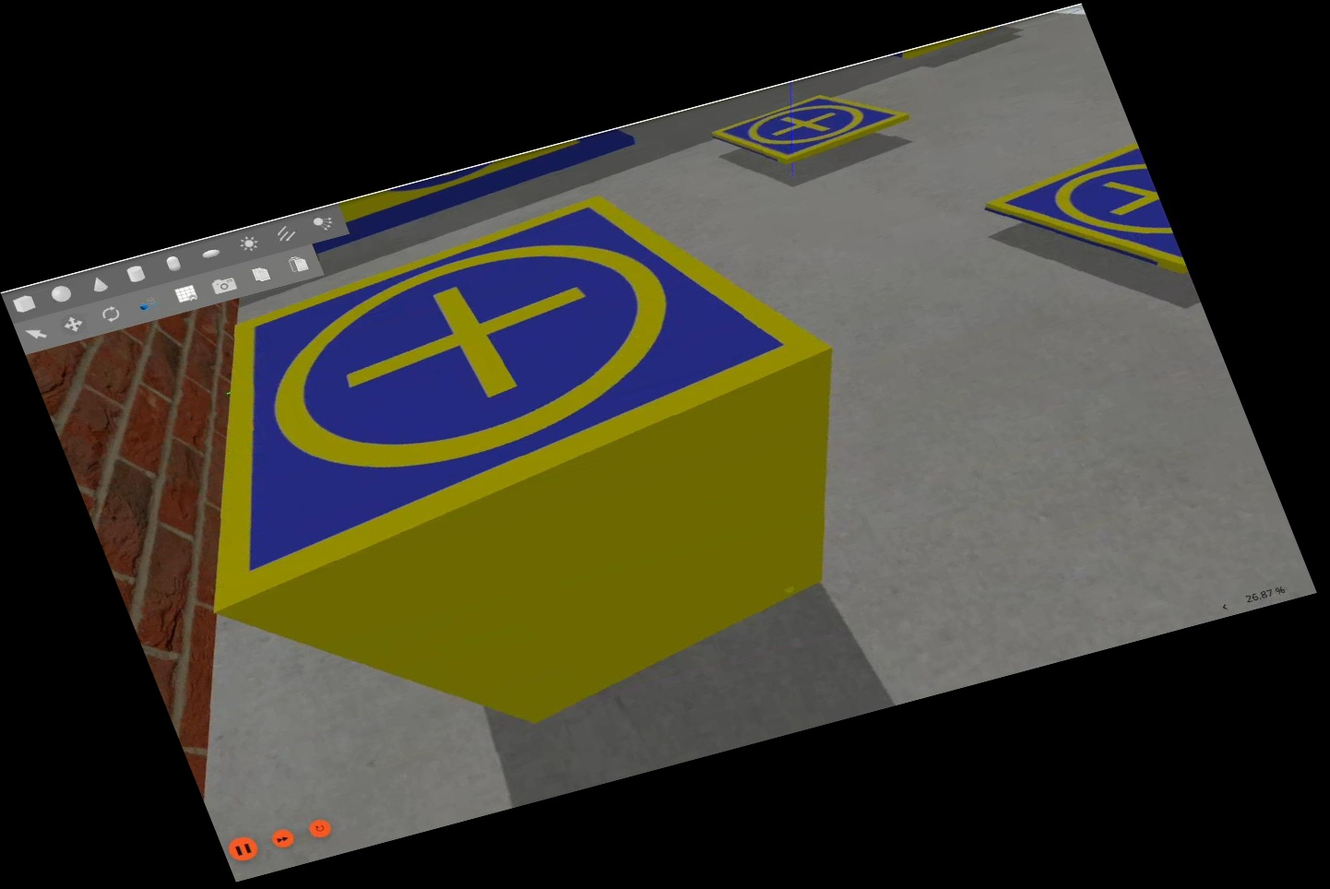small_base: (101, 154, 870, 614), (972, 133, 1193, 314), (707, 75, 916, 181)
